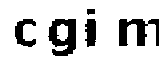c: (9, 15, 38, 51)
g: (45, 15, 79, 59)
i: (85, 7, 102, 50)
m: (113, 13, 160, 51)
